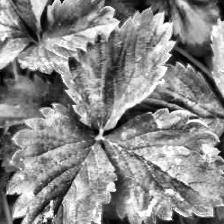Powdery Mildew Leaf: (62, 6, 177, 134), (103, 107, 224, 224), (6, 102, 117, 224), (15, 0, 121, 77)
